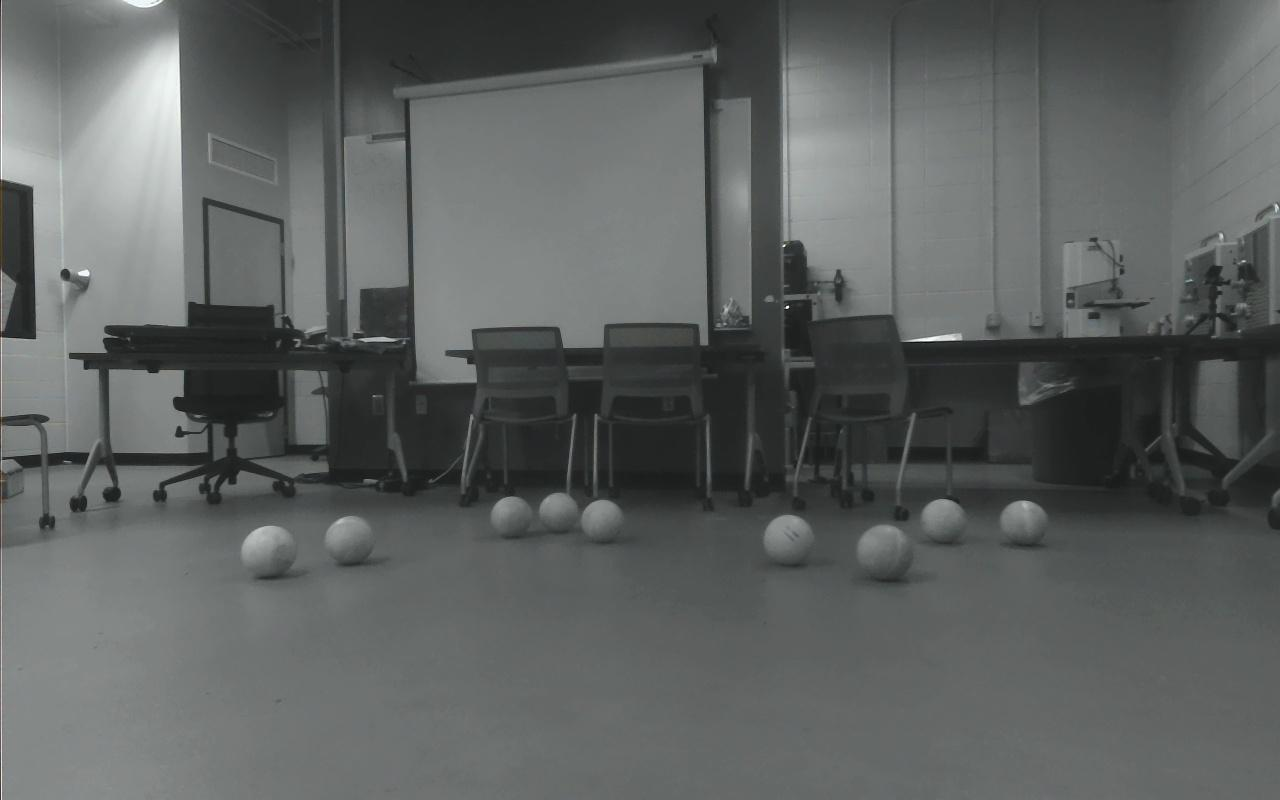Fuel: (856, 525, 913, 581), (242, 525, 297, 578), (763, 515, 814, 565), (325, 515, 375, 565), (998, 499, 1048, 546), (920, 499, 968, 544), (580, 499, 625, 542), (490, 495, 534, 538), (539, 493, 579, 533)
